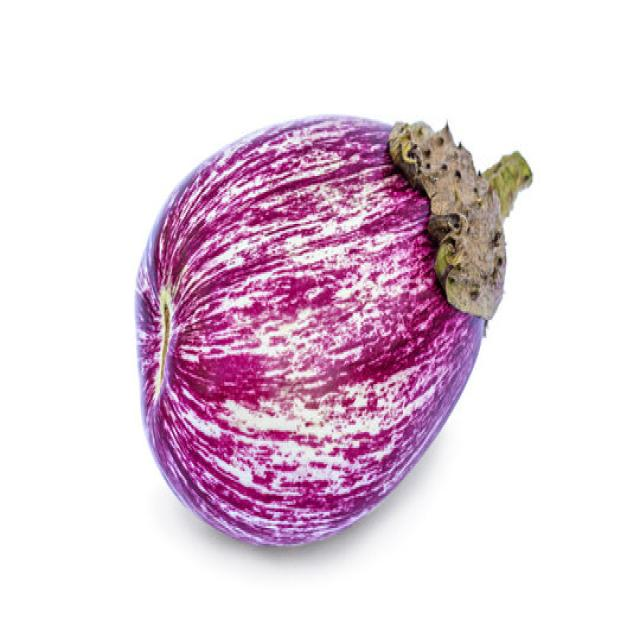Eggplant: (133, 112, 531, 548)
